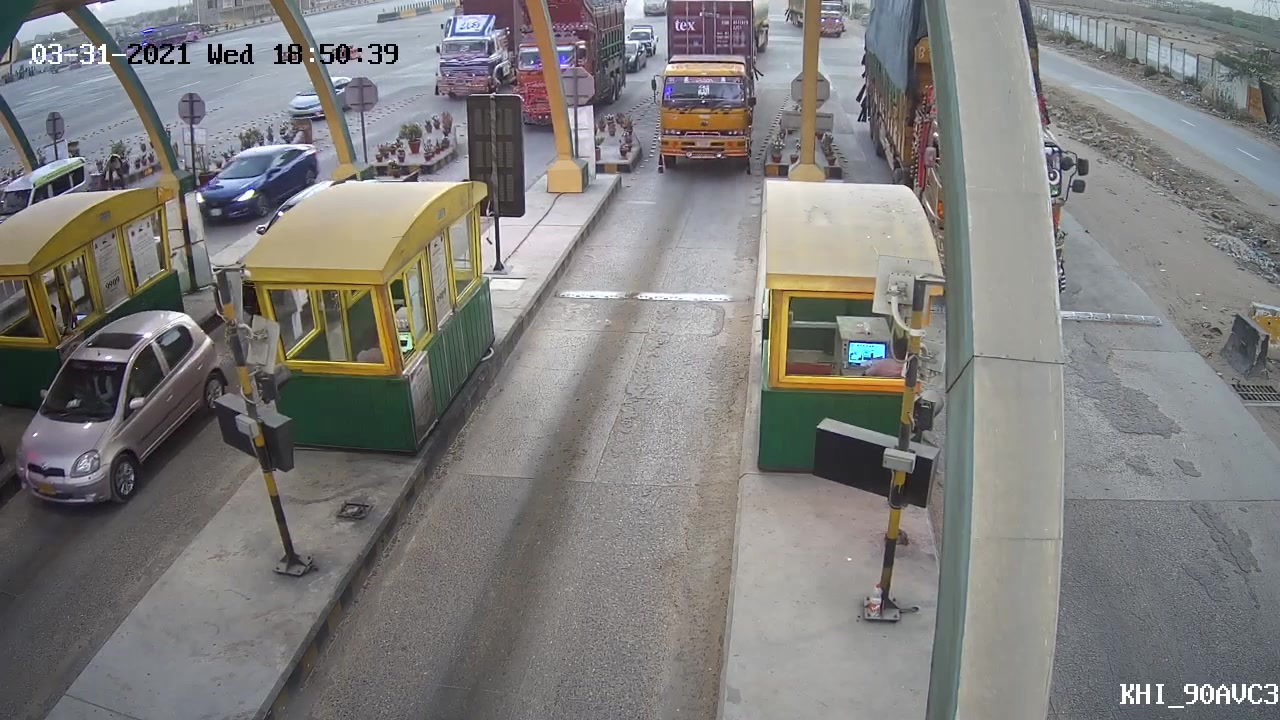F6: (644, 36, 765, 179)
